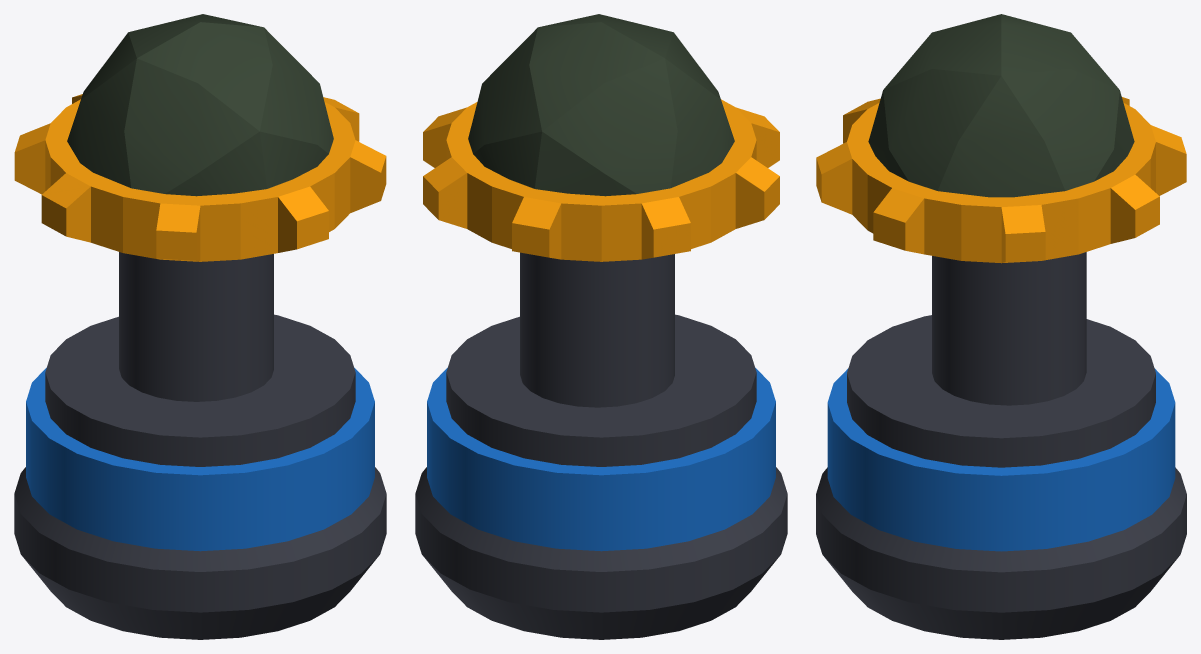
The model's file is tower_grey_jade.obj.
3 views of the same model, side by side, from view 1: azimuth 30°, elevation 25°; view 2: azimuth 150°, elevation 25°; view 3: azimuth 270°, elevation 25° (orthographic).
Parts seen in each view (by area): view 1: mergedBlocks; view 2: mergedBlocks; view 3: mergedBlocks.
Part boxes in pixels (box(x1,y1,x2,y2)): mergedBlocks: box(14, 14, 386, 639); mergedBlocks: box(415, 14, 787, 639); mergedBlocks: box(816, 14, 1186, 639).
Bounding box in the file's own units: 0.96 × 1.57 × 0.96.
